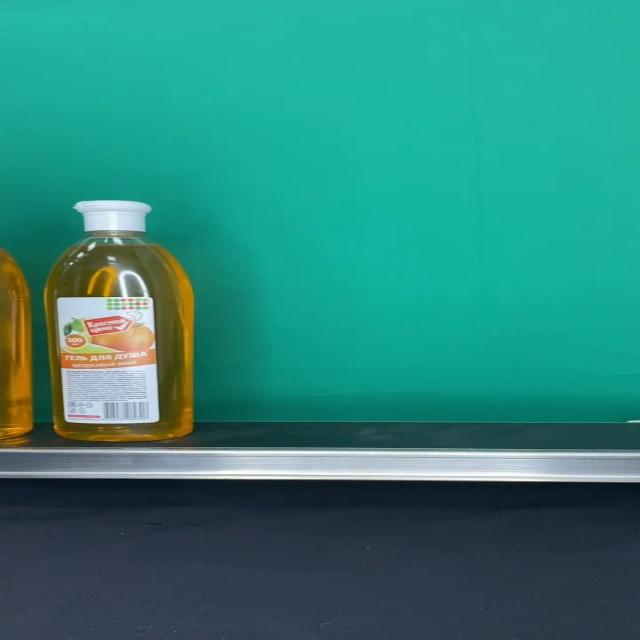Bottle: (43, 200, 196, 442)
Cap: (72, 200, 152, 232)
